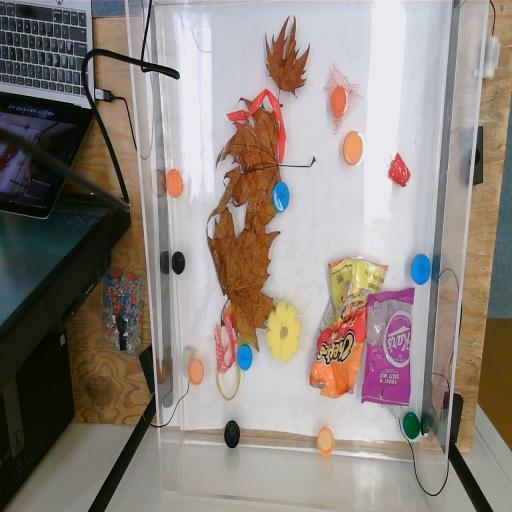Bottle Cap: (342, 130, 364, 166), (410, 253, 432, 286), (330, 85, 349, 118), (272, 180, 290, 212), (166, 168, 183, 199), (402, 412, 420, 440), (224, 419, 240, 449), (318, 426, 334, 456), (188, 358, 204, 386), (237, 344, 253, 372), (171, 251, 186, 275)
Cone Cap: (388, 151, 411, 189)
Leaf: (206, 96, 316, 241), (206, 198, 280, 352), (264, 14, 310, 110)
Netting: (322, 60, 364, 138), (212, 304, 236, 375)
Plastic Bag: (309, 256, 389, 400), (361, 286, 416, 408)
Plastic Strand: (226, 88, 288, 166), (216, 302, 254, 402)
Sponge: (266, 299, 302, 364)
